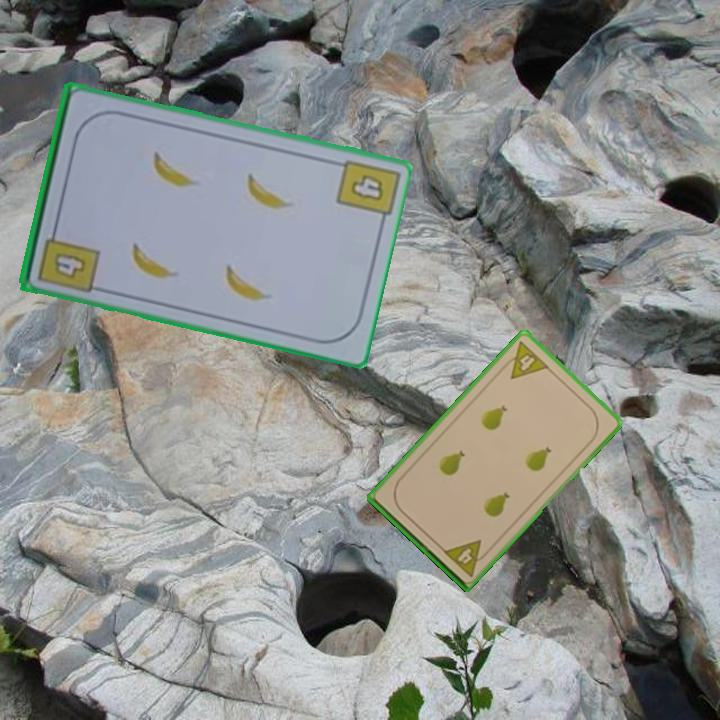4b: (34, 221, 102, 296), (347, 170, 387, 204)
4p: (497, 338, 552, 382), (439, 536, 493, 580)
